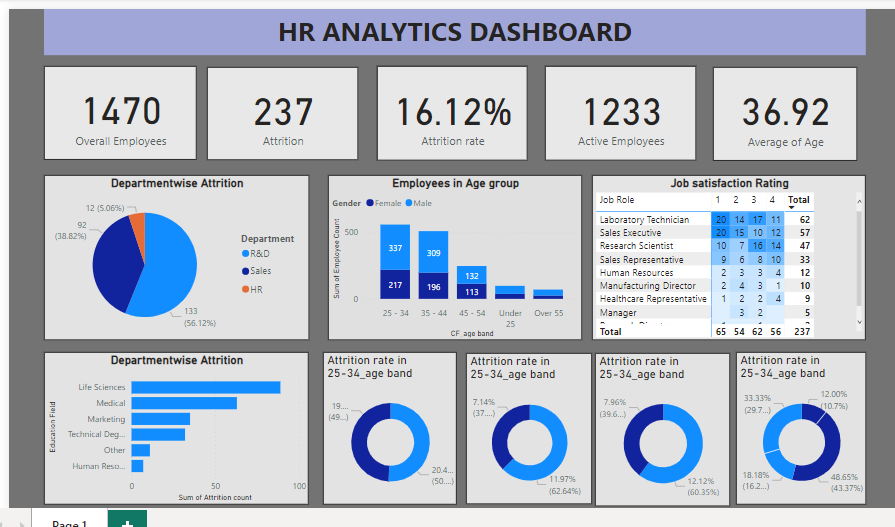

The dashboard page shown, as its layout file describes it:
{"tool":"powerbi","page":{"name":"Page 1","canvas":[1280,720],"ordinal":0},"visuals":[{"type":"card","fields":{"Values":["Data.Attrition rate"]},"box":[525.7,81.4,215,135],"z":0,"group":"g1"},{"type":"card","fields":{"Values":["Count(Data.emp no)"]},"box":[50,81.2,217.5,133.8],"z":0},{"type":"card","fields":{"Values":["Data.Active Employees"]},"box":[766,81.7,215.6,135.1],"z":1000,"group":"g1"},{"type":"donutChart","title":"Attrition rate in 25-34_age band","fields":{"Category":["Data.Gender"],"Y":["Data.Attrition rate"],"Series":["Data.CF_age band"]},"box":[652.9,491.4,180,215.7],"z":1000},{"type":"card","fields":{"Values":["Avg(Data.Age)"]},"box":[1006.4,82.9,205.5,133.7],"z":2000,"group":"g1"},{"type":"card","fields":{"Values":["Sum(Data.Attrition count)"]},"box":[282.9,82.9,215.7,132.9],"z":2000},{"type":"donutChart","title":"Attrition rate in 25-34_age band","fields":{"Category":["Data.Gender"],"Y":["Data.Attrition rate"],"Series":["Data.CF_age band"]},"box":[836.9,491.3,193.2,219.2],"z":3000},{"type":"pieChart","title":"Departmentwise Attrition","fields":{"Y":["Sum(Data.CF_attrition counts)"],"Category":["Data.Department"]},"box":[50,237.1,378.6,235.7],"z":4000},{"type":"donutChart","title":"Attrition rate in 25-34_age band","fields":{"Category":["Data.Gender"],"Y":["Data.Attrition rate"],"Series":["Data.CF_age band"]},"box":[1039,490.5,185.5,218.4],"z":5000},{"type":"group","id":"g1","title":"Group 1","box":[525.7,81.4,684.3,134.3],"z":6000},{"type":"columnChart","title":"Employees in Age group","fields":{"Category":["Data.CF_age band"],"Y":["Sum(Data.Employee Count)"],"Series":["Data.Gender"]},"box":[455.7,237.1,362.9,235.7],"z":7000},{"type":"pivotTable","title":"Job satisfaction Rating","fields":{"Rows":["Data.Job Role"],"Values":["Sum(Data.CF_attrition counts)"],"Columns":["Data.Job Satisfaction"]},"box":[832.9,237.1,391.4,235.7],"z":8000},{"type":"clusteredBarChart","title":"Departmentwise Attrition","fields":{"Category":["Data.Education Field"],"Y":["Sum(Data.Attrition count)"]},"box":[50.3,490.1,378,218.4],"z":9000},{"type":"donutChart","title":"Attrition rate in 25-34_age band","fields":{"Category":["Data.Gender"],"Y":["Data.Attrition rate"],"Series":["Data.CF_age band"]},"box":[448.4,490.1,191.1,218.4],"z":10000},{"type":"textbox","box":[50,0,1174.3,65.7],"z":11000}]}

Visuals, with their boxes in screenshot pixels (x1, y1, x2, y2):
card - Data.Attrition rate: 374/68/522/161
card - Count(Data.emp no): 46/68/196/160
card - Data.Active Employees: 540/68/689/161
"Attrition rate in 25-34_age band" donutChart: 462/350/586/499
card - Avg(Data.Age): 706/69/847/161
card - Sum(Data.Attrition count): 207/69/355/161
"Attrition rate in 25-34_age band" donutChart: 589/350/722/501
"Departmentwise Attrition" pieChart: 46/175/307/338
"Attrition rate in 25-34_age band" donutChart: 728/350/856/500
"Group 1" group: 374/68/846/160
"Employees in Age group" columnChart: 326/175/576/338
"Job satisfaction Rating" pivotTable: 586/175/856/338
"Departmentwise Attrition" clusteredBarChart: 46/350/307/500
"Attrition rate in 25-34_age band" donutChart: 321/350/453/500
textbox: 46/12/856/57
